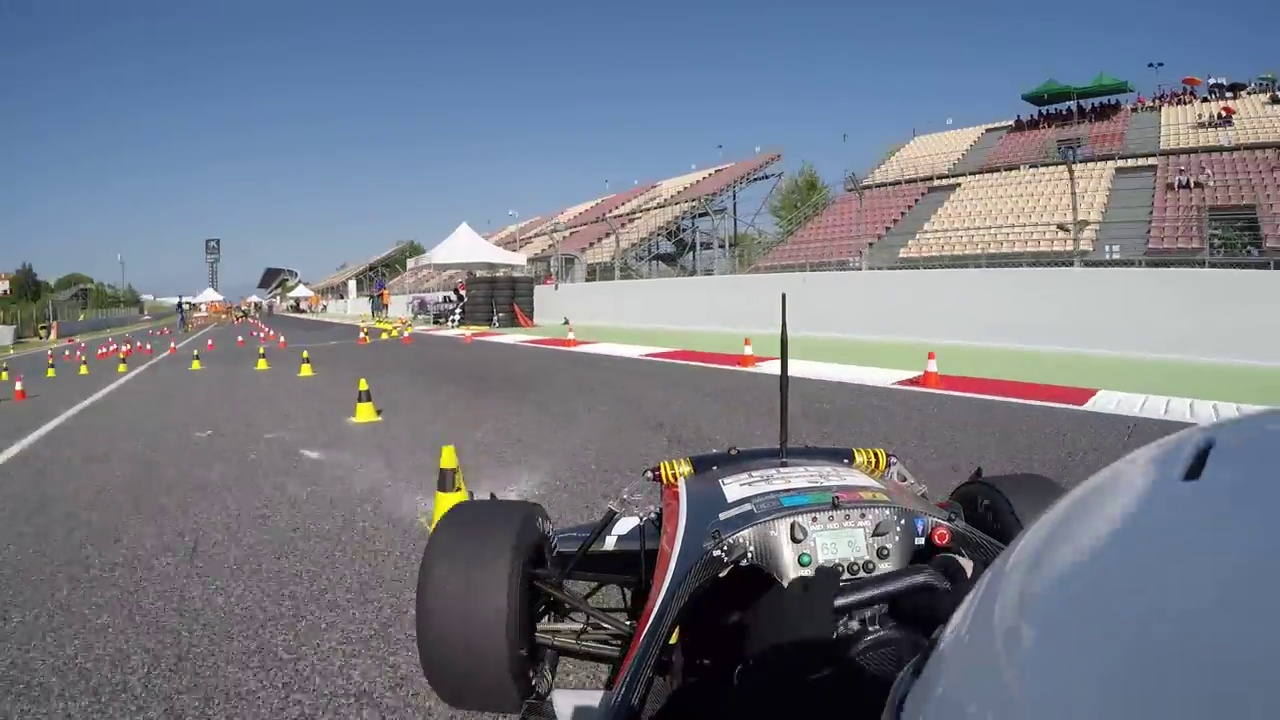Cone: (348, 377, 381, 429), (918, 348, 947, 390), (297, 349, 320, 379), (253, 345, 276, 372)
